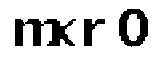0: (112, 5, 151, 51)
m: (12, 16, 59, 50)
r: (80, 18, 107, 49)
x: (46, 18, 79, 48)
